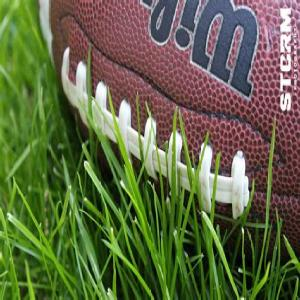Rugby: (37, 1, 300, 264)
